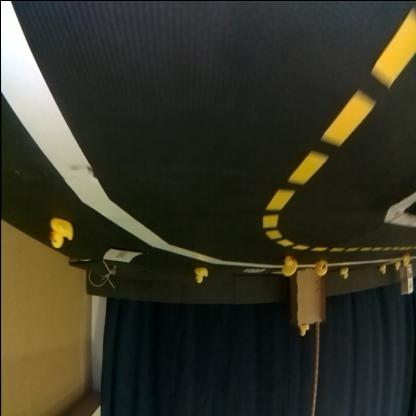Duckie: (50, 218, 72, 248), (282, 256, 297, 276), (196, 268, 208, 284), (316, 260, 326, 274), (300, 324, 310, 336), (342, 269, 349, 279), (379, 264, 385, 274), (403, 256, 409, 266), (394, 262, 400, 270)
QR code: (244, 268, 264, 275)
